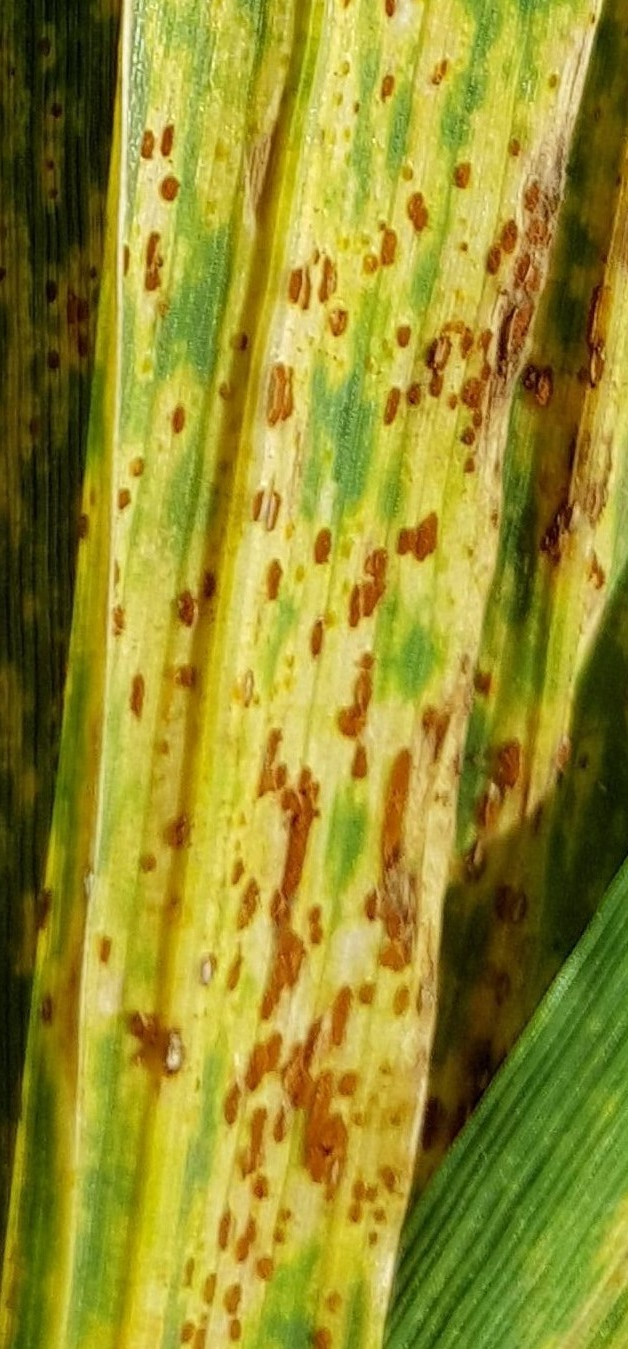Leaf Rust: (128, 164, 515, 1294)
